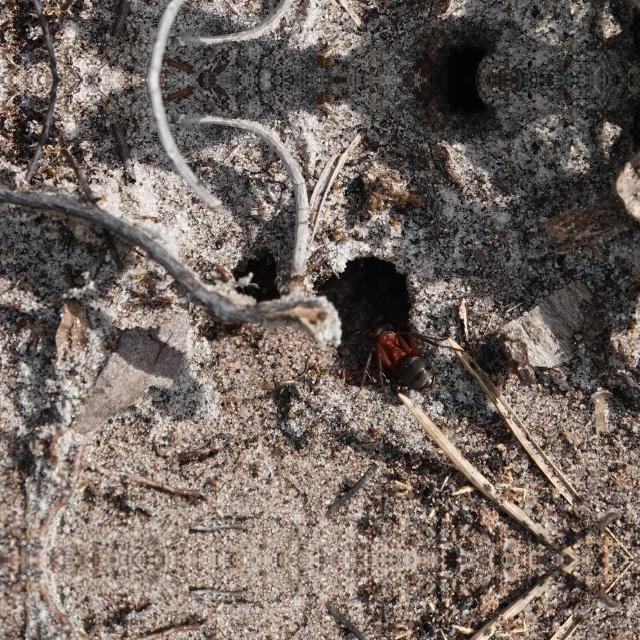Formica: (360, 298, 448, 400)
